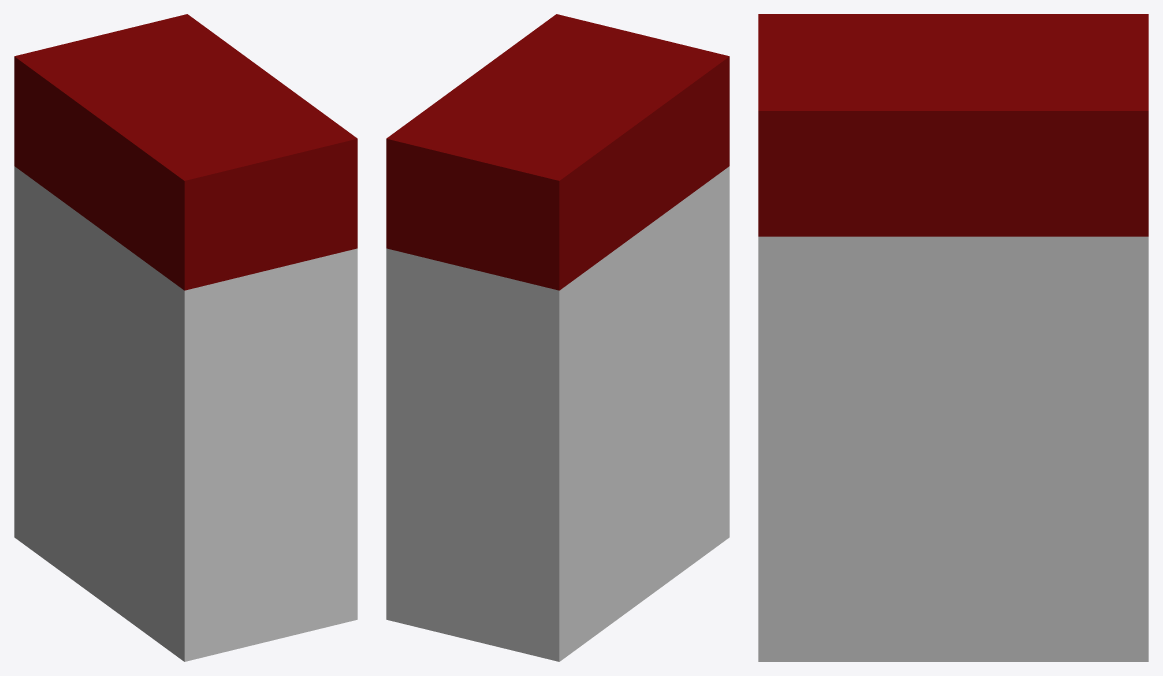
Rendered from unopenedcigs.fbx.
3 views of the same model, side by side, from view 1: azimuth 30°, elevation 25°; view 2: azimuth 150°, elevation 25°; view 3: azimuth 270°, elevation 25° (orthographic). The views are drawn at different scales.
Parts seen in each view (by area): view 1: polySurface1; view 2: polySurface1; view 3: polySurface1.
Part boxes in pixels (bbox=[...]): polySurface1: bbox=[14, 14, 357, 661]; polySurface1: bbox=[386, 14, 729, 661]; polySurface1: bbox=[758, 14, 1148, 661].
Size of the model in its own units: 0.2887 by 0.7656 by 0.4915.
